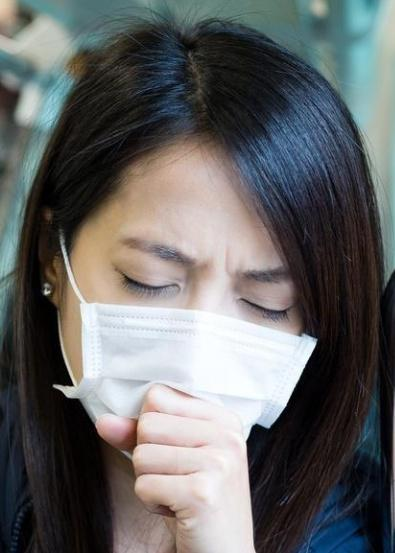OK: (70, 191, 315, 476)
